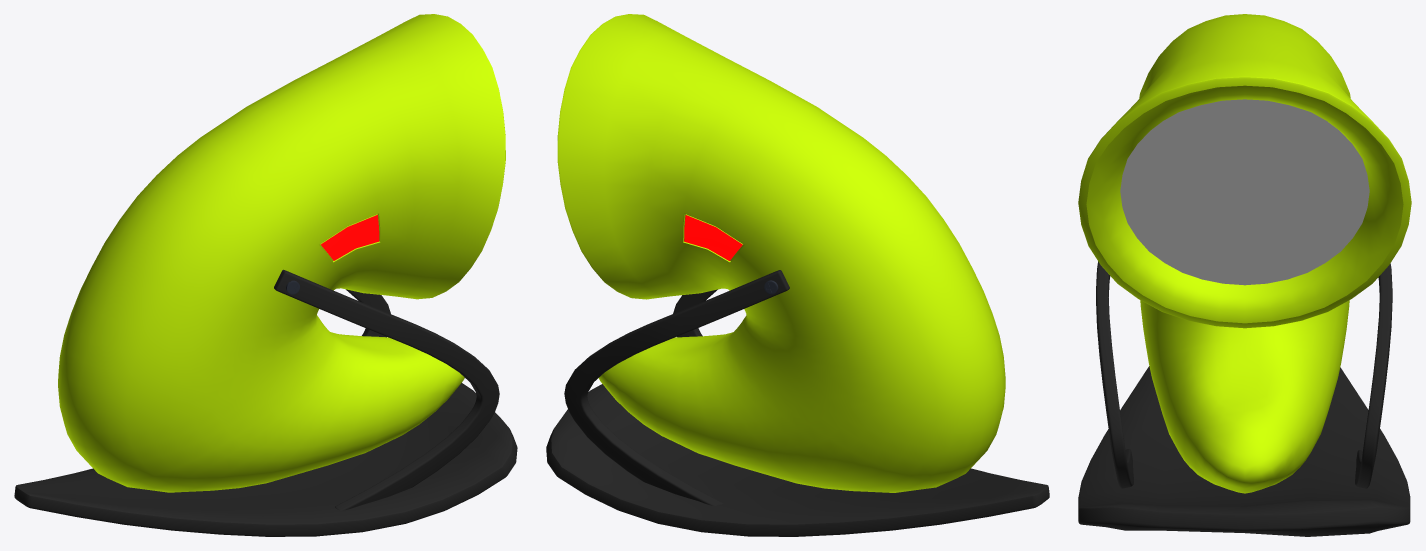
Rendered from Reloj.fbx.
3 renders of one model, left to right at view 1: azimuth 30°, elevation 25°; view 2: azimuth 150°, elevation 25°; view 3: azimuth 270°, elevation 25°, orthographic. The views are drawn at different scales.
Visible parts, largest first — view 1: Reloj; view 2: Reloj; view 3: Reloj, Glass.
Part boxes in pixels (x1=…): Reloj: x1=14, y1=14, x2=517, y2=536; Reloj: x1=546, y1=14, x2=1049, y2=536; Reloj: x1=1078, y1=14, x2=1411, y2=536; Glass: x1=1120, y1=99, x2=1369, y2=285.
Size of the model in its own units: 0.4883 by 0.4343 by 0.2641.
